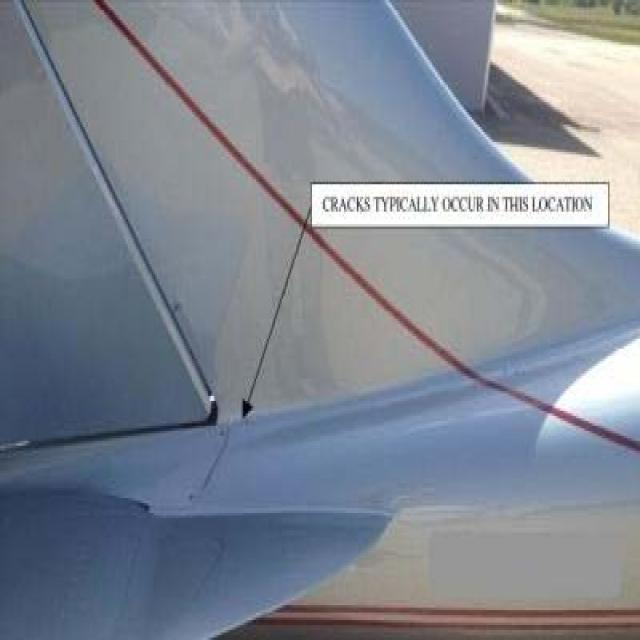crack: (195, 426, 245, 503)
